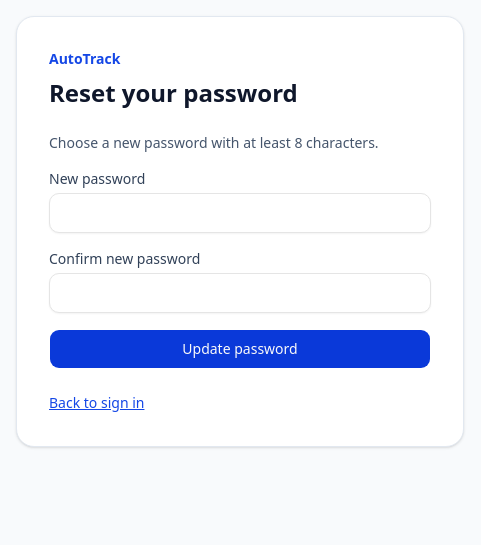
Test: password update › handles weak_password without claiming success and permits retry
Type "new-password-123" into the password field labelled "New password" at coordinates (240, 213), box 49,193 -> 431,233
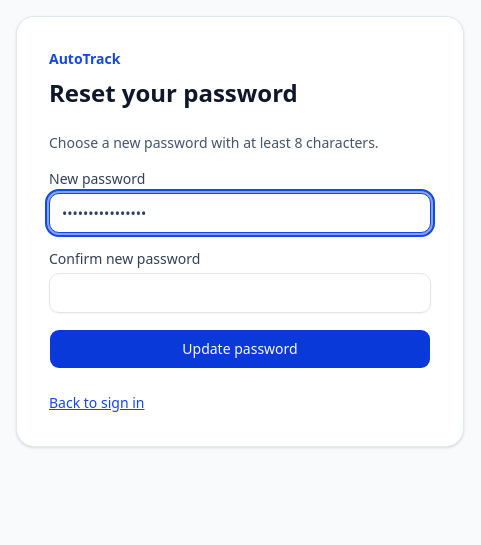
Type "new-password-123" into the password field labelled "Confirm new password" at coordinates (240, 293), box 49,273 -> 431,313
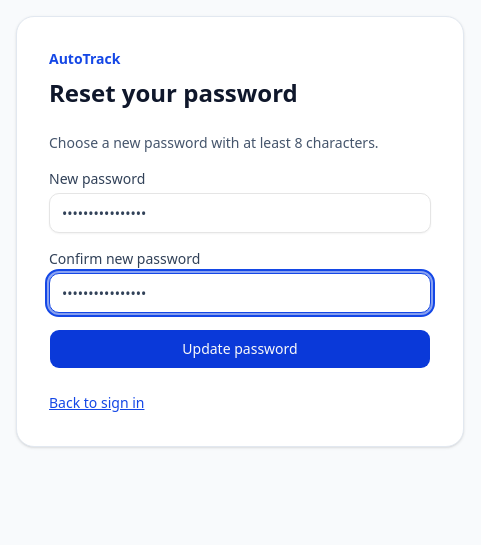
Click the button "Update password" at coordinates (240, 349), box 49,329 -> 431,369
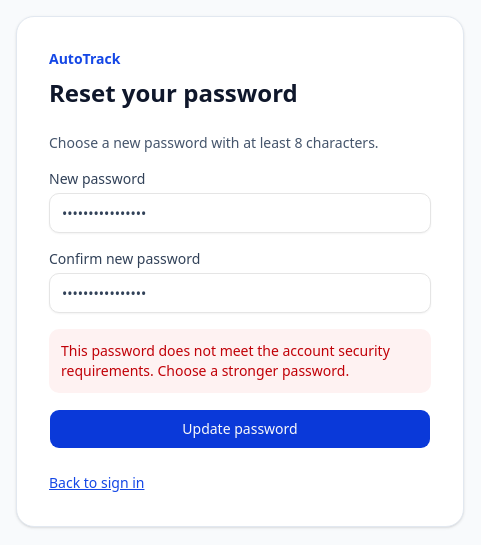
Expected: the button is enabled, 49,409 -> 431,449
Expected: the message shows "stronger", 61,341 -> 390,380
